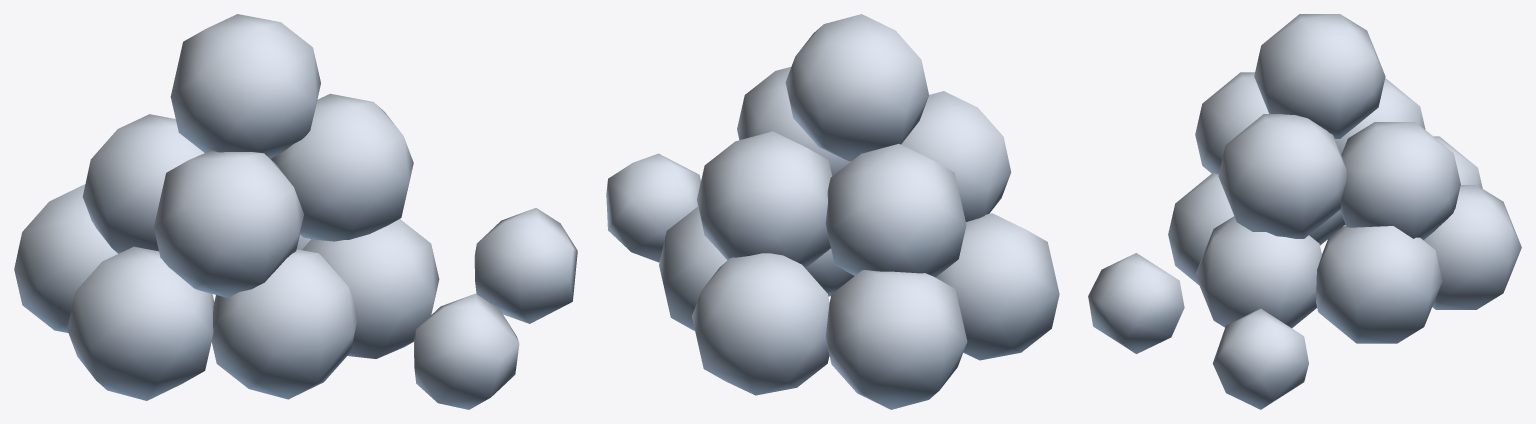
Rendered from Snowballs.fbx.
The picture shows the model from 3 angles, left to right: view 1: azimuth 30°, elevation 25°; view 2: azimuth 150°, elevation 25°; view 3: azimuth 270°, elevation 25°; orthographic projection. The views are drawn at different scales.
Visible parts, largest first — view 1: Snowballs; view 2: Snowballs; view 3: Snowballs.
Part boxes in pixels (x1=…): Snowballs: x1=14, y1=14, x2=577, y2=409; Snowballs: x1=606, y1=14, x2=1059, y2=409; Snowballs: x1=1088, y1=14, x2=1521, y2=409.
Bounding box in the file's own units: 81.87 × 53.91 × 74.87.
